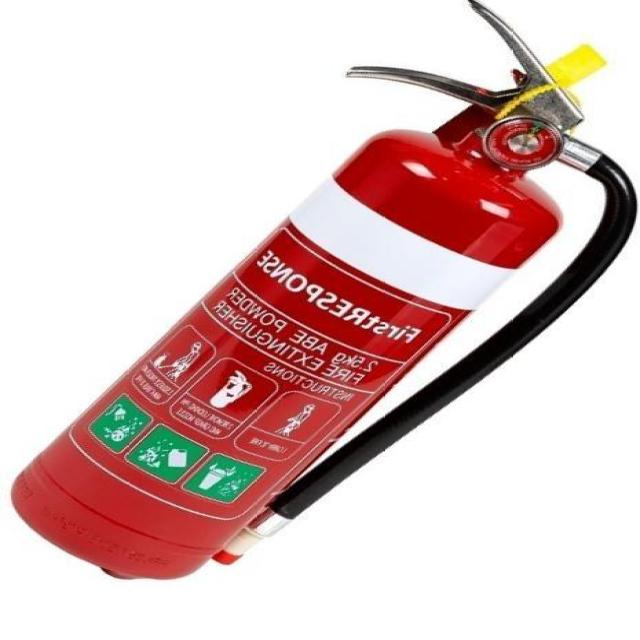fire_extinguisher: (0, 0, 637, 585)
